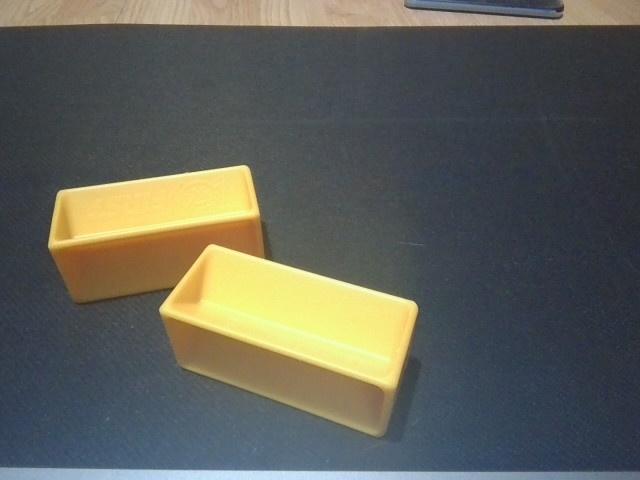YellowSample: (156, 241, 422, 443), (43, 160, 272, 306)
